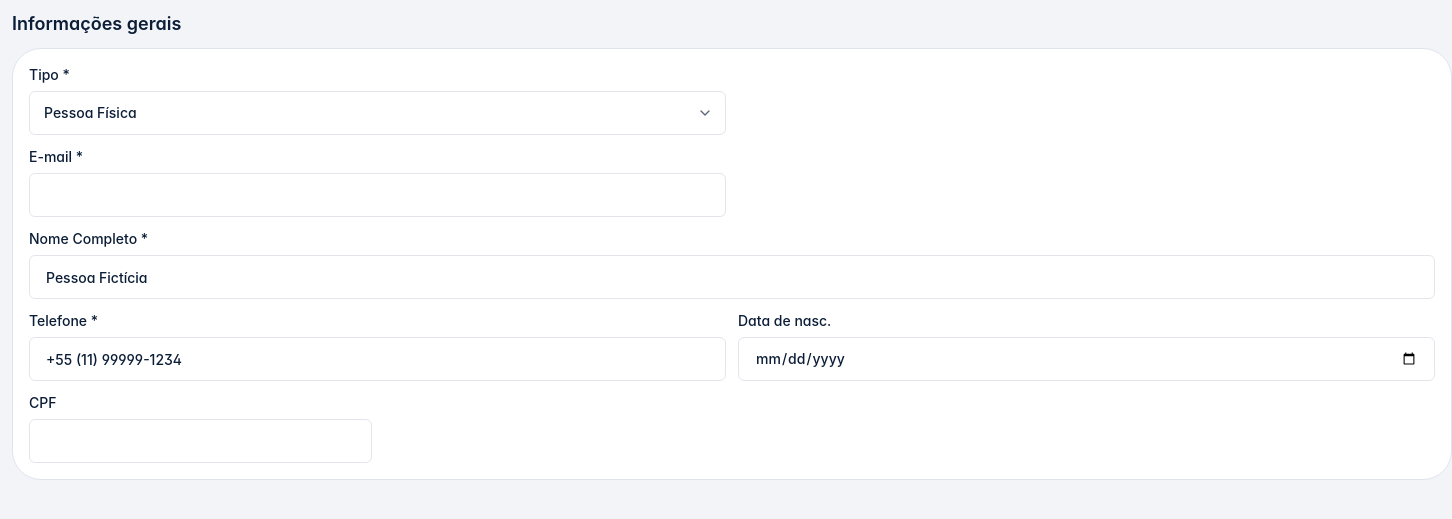
Test: aviso de identidade no preenchimento › retira o erro anterior ao editar e conserva os outros dados preenchidos
The image size is (1452, 519).
In the field labelled "E-mail": (378, 195) [29,173,726,217], type "pessoa@example.invalid"
Wait 350 ms
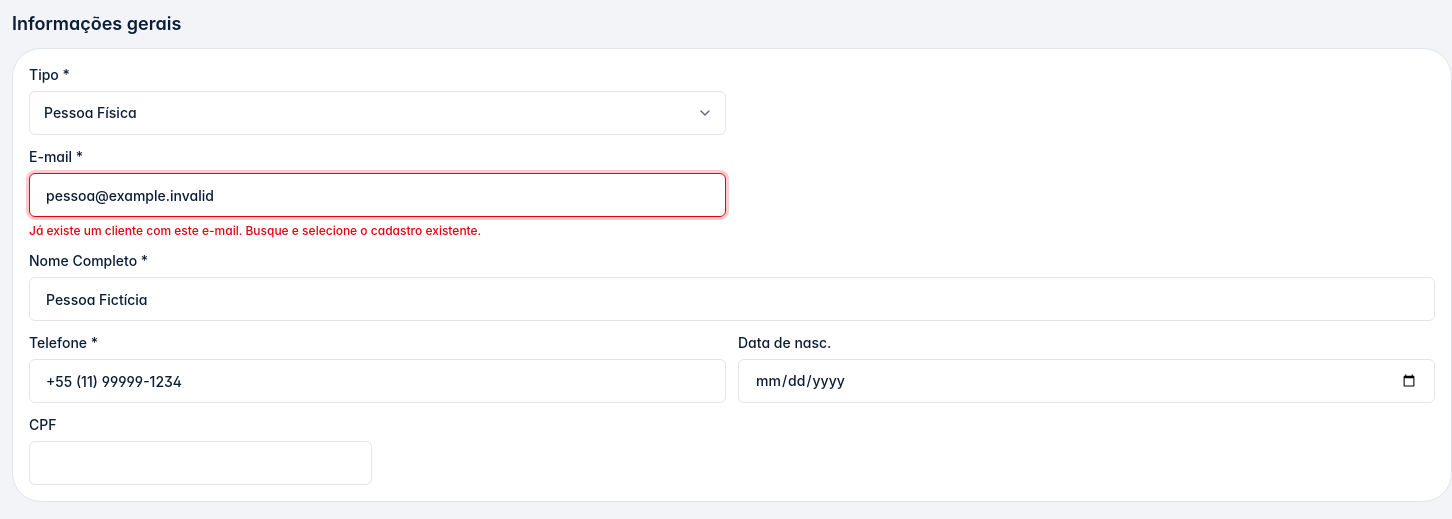
Replace the text in the field labelled "E-mail" with "outra@example.invalid": (378, 195) [29,173,726,217]
Wait 350 ms
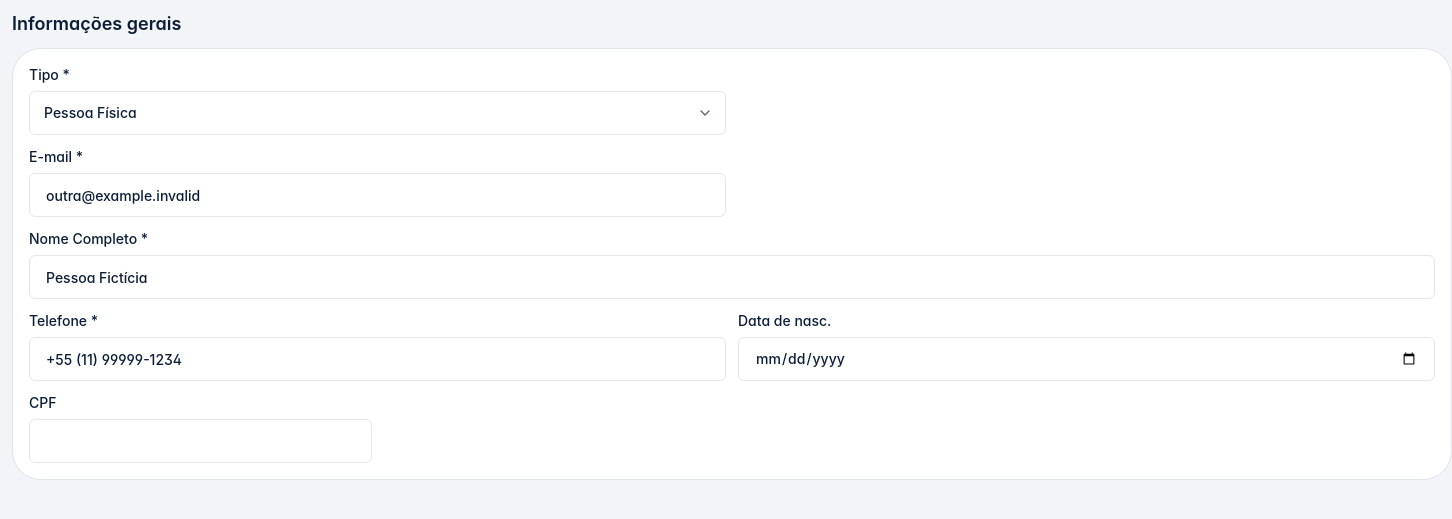
Expected: the field labelled "Nome Completo *" holds "Pessoa Fictícia", [29,255,1435,299]
Expected: the message "Já existe um cliente com este e-mail. Busque e selecione o cadastro existente." is gone
